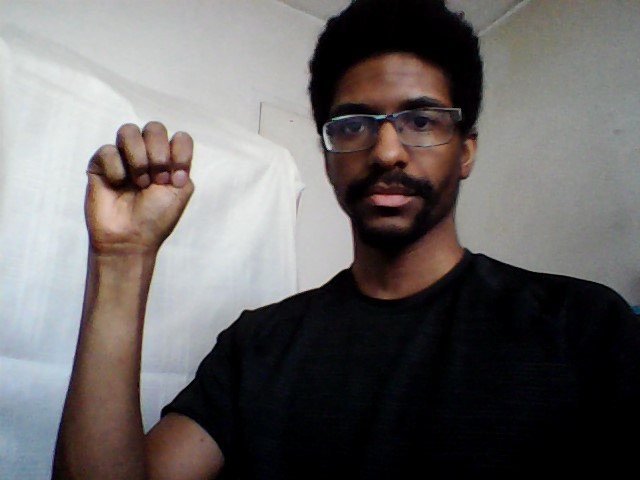m: (78, 117, 199, 250)
